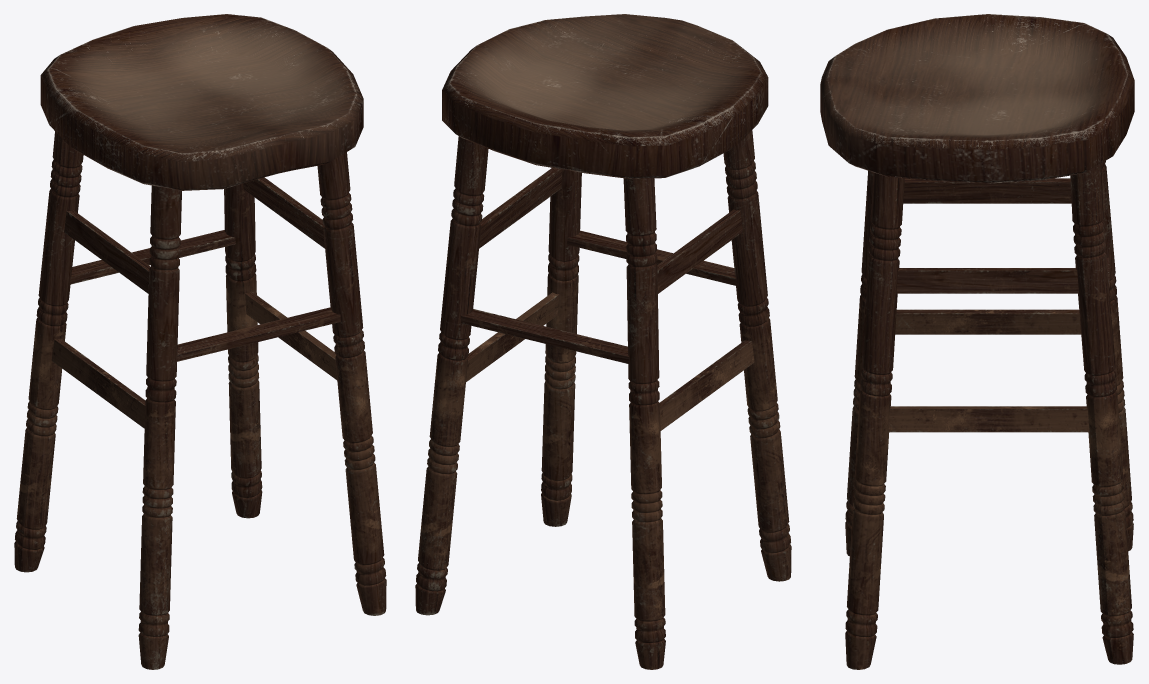
Rendered from obj_barstool_round_b221ad.glb.
The picture shows the model from 3 angles, left to right: view 1: azimuth 30°, elevation 25°; view 2: azimuth 150°, elevation 25°; view 3: azimuth 270°, elevation 25°; orthographic projection. The views are drawn at different scales.
Visible parts, largest first — view 1: obj_barstool_round_b221ad; view 2: obj_barstool_round_b221ad; view 3: obj_barstool_round_b221ad.
Boxes of the visible parts, x1,y1,x2,y2 form: obj_barstool_round_b221ad: [14, 14, 386, 669]; obj_barstool_round_b221ad: [415, 14, 791, 669]; obj_barstool_round_b221ad: [820, 14, 1134, 669].
Size of the model in its own units: 0.3464 by 0.65 by 0.3462.
1 material, 1 textured.
